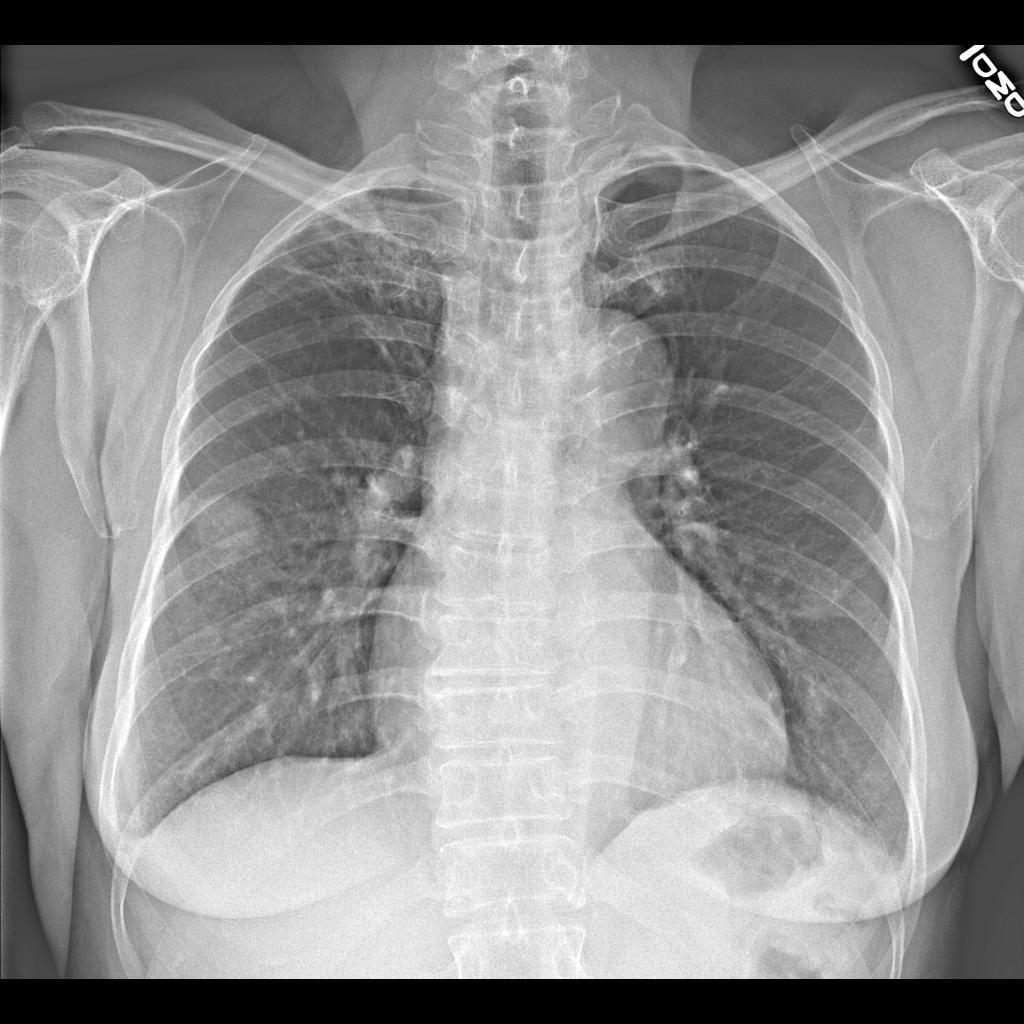Nodule: (190, 490, 266, 561)
